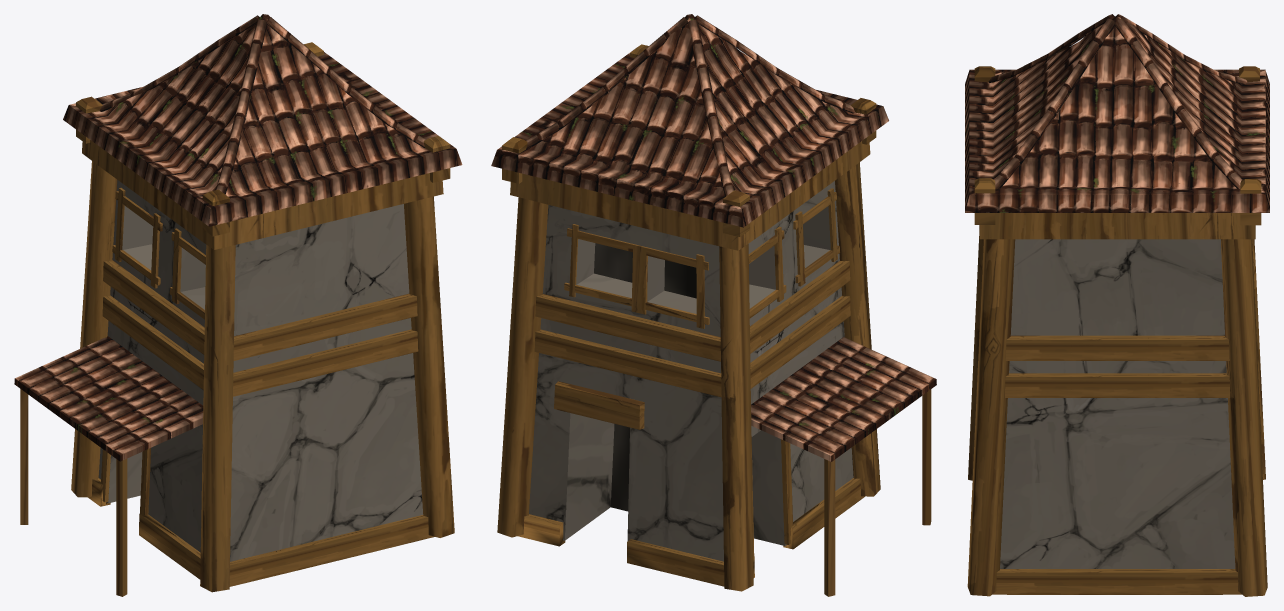
The model's file is tallHouse_geo.fbx.
3 views of the same model, side by side, from view 1: azimuth 30°, elevation 25°; view 2: azimuth 150°, elevation 25°; view 3: azimuth 270°, elevation 25° (orthographic). The views are drawn at different scales.
Parts seen in each view (by area): view 1: tallhouse_geo; view 2: tallhouse_geo; view 3: tallhouse_geo.
Boxes of the visible parts, x1,y1,x2,y2 form: tallhouse_geo: [14, 14, 462, 596]; tallhouse_geo: [491, 14, 936, 596]; tallhouse_geo: [965, 14, 1269, 596].
Size of the model in its own units: 6.99 by 10.36 by 5.5.
